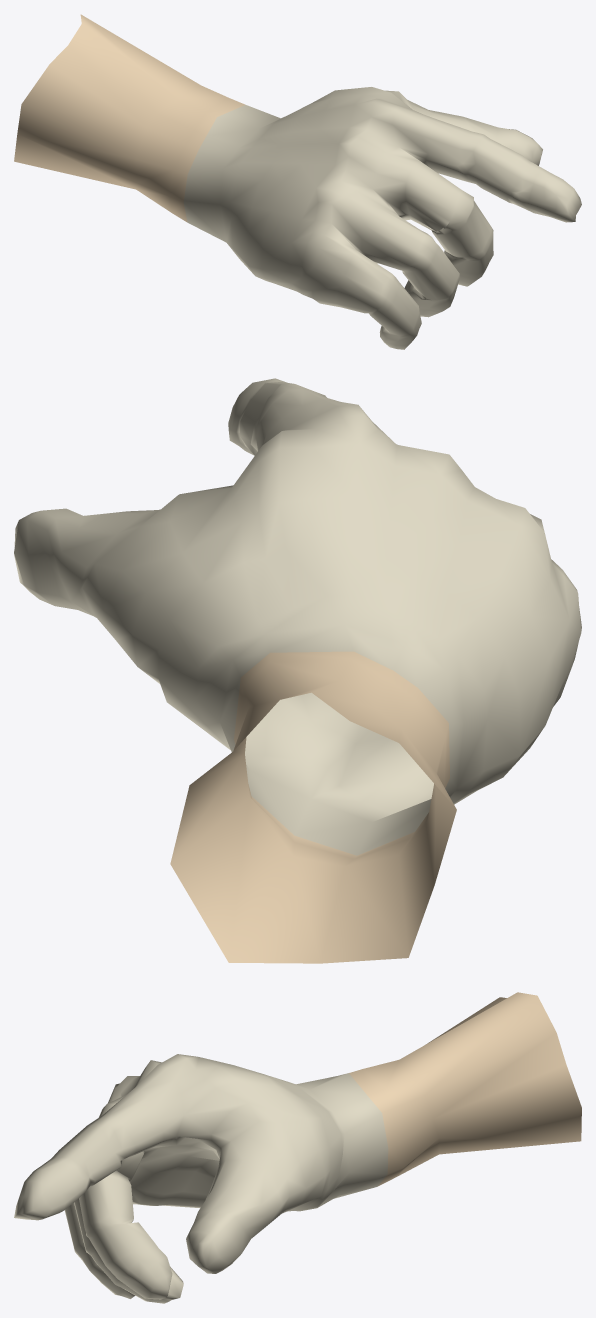
Rendered from hand_r.fbx.
3 renders of one model, top to bottom at view 1: azimuth 30°, elevation 25°; view 2: azimuth 150°, elevation 25°; view 3: azimuth 270°, elevation 25°, orthographic. The views are drawn at different scales.
Visible parts, largest first — view 1: Hand; view 2: Hand; view 3: Hand.
Boxes of the visible parts, x1,y1,x2,y2 form: Hand: (14, 14, 581, 349); Hand: (14, 378, 581, 963); Hand: (14, 992, 581, 1303).
Size of the model in its own units: 17.79 by 10.11 by 21.47.
